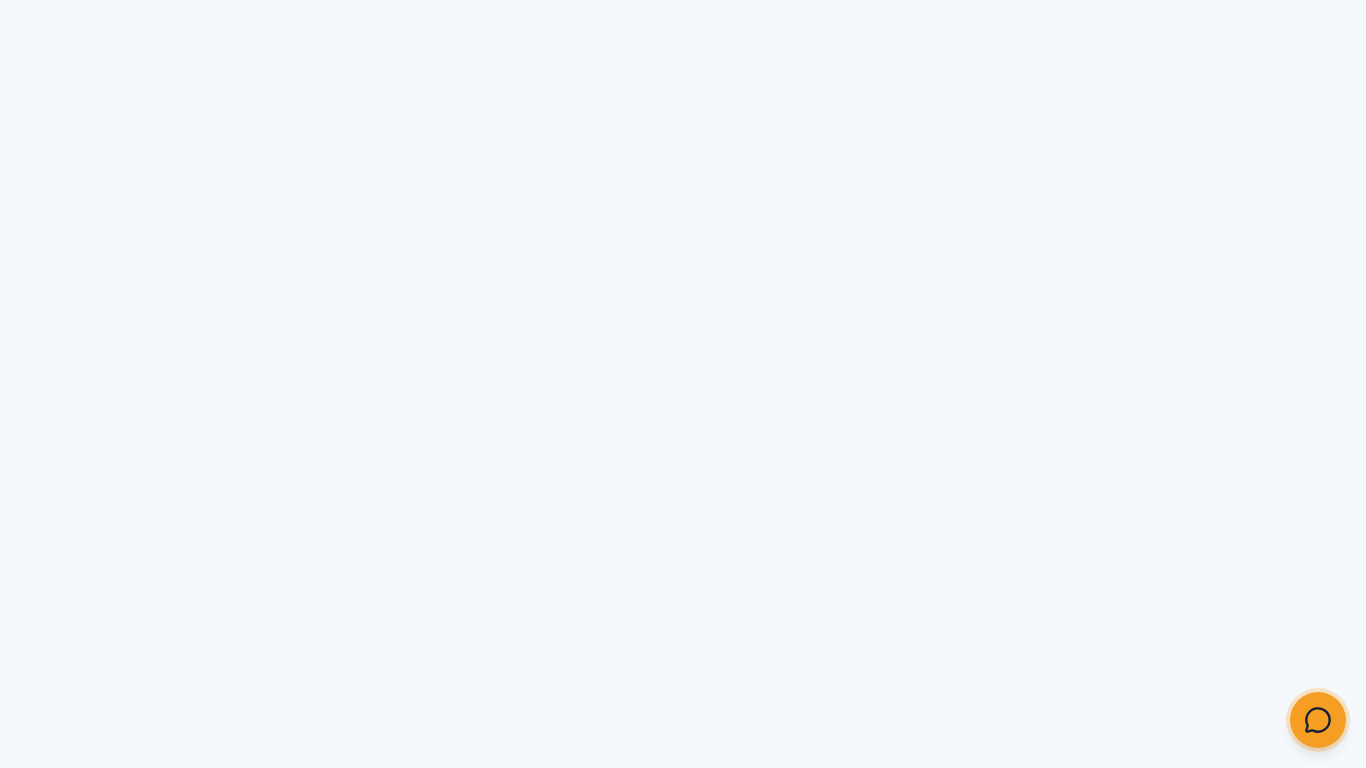
Test case: abre, conversa y cierra con Escape
The width and height of the screenshot is (1366, 768).
Click the button named "Abrir Asistente Virtual COA".
click(1318, 720)  # box [1290, 692, 1346, 748]
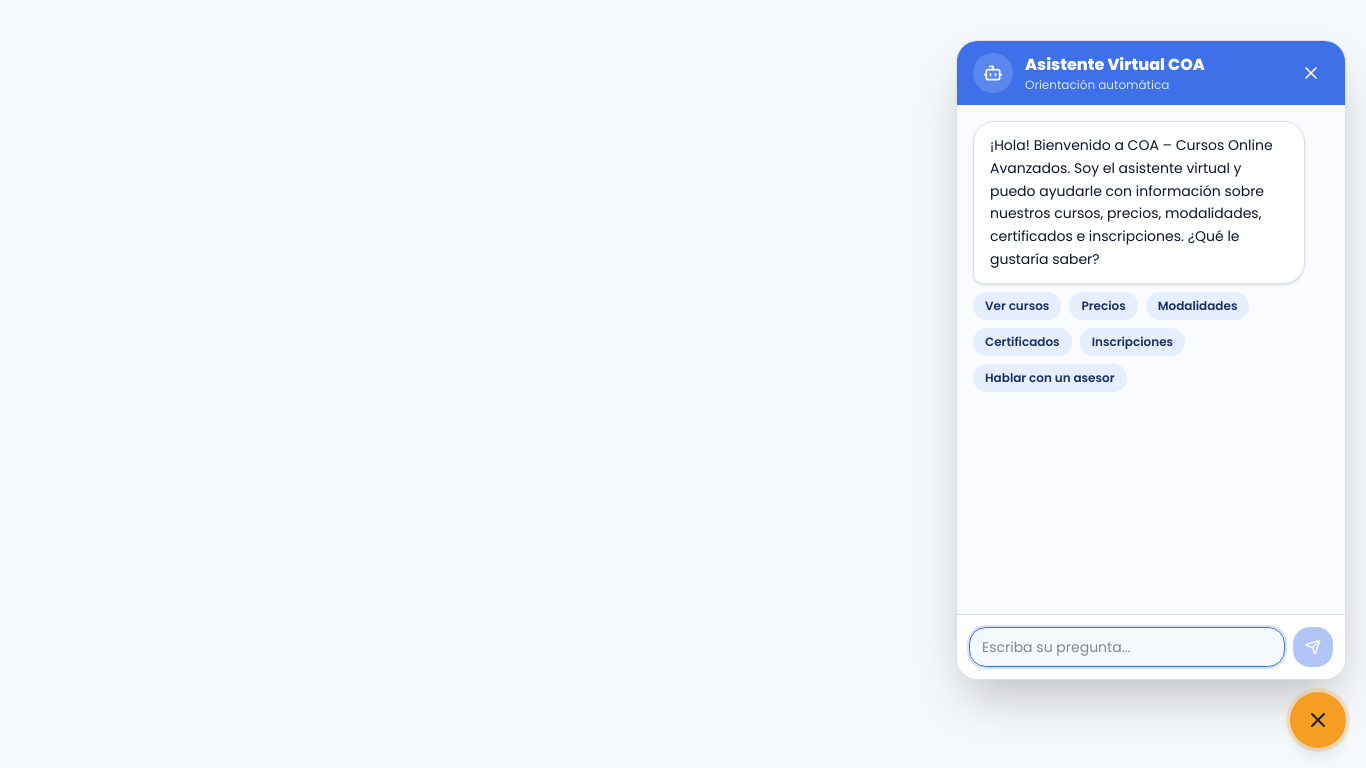
Now the dialog "Asistente Virtual COA" is shown, box [956, 40, 1346, 680]
Click the button "Precios".
click(1104, 306)  # box [1069, 292, 1138, 320]
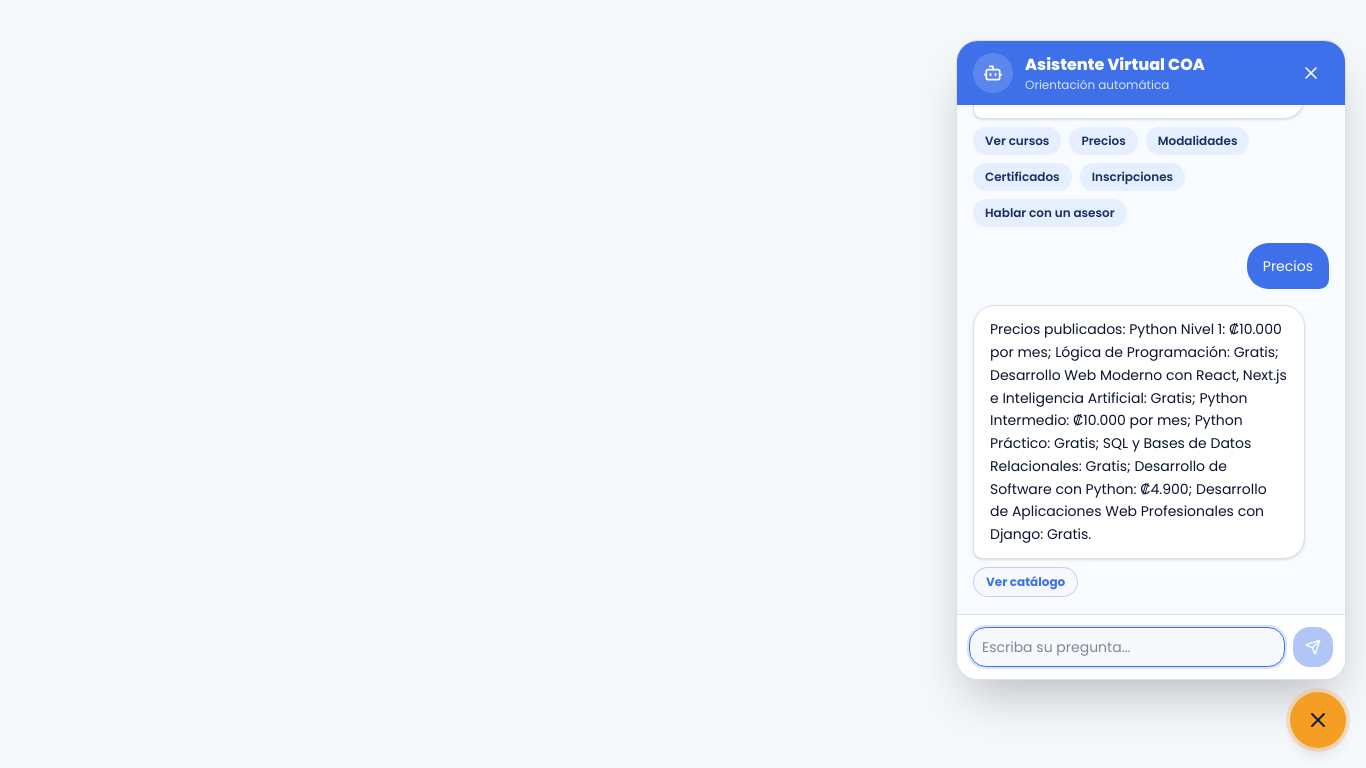
Now the text "Precios publicados" is shown, box [990, 319, 1287, 544]
Press Escape
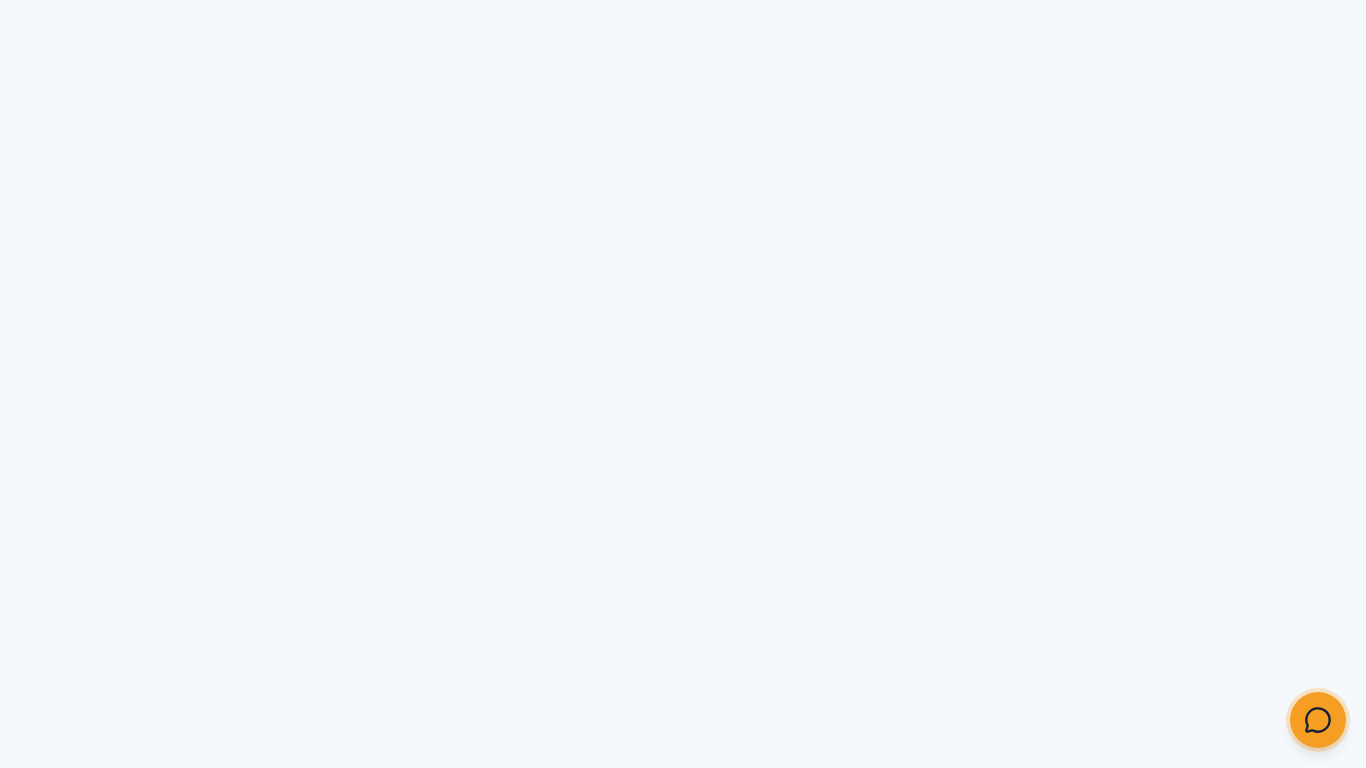
Now the dialog is gone
